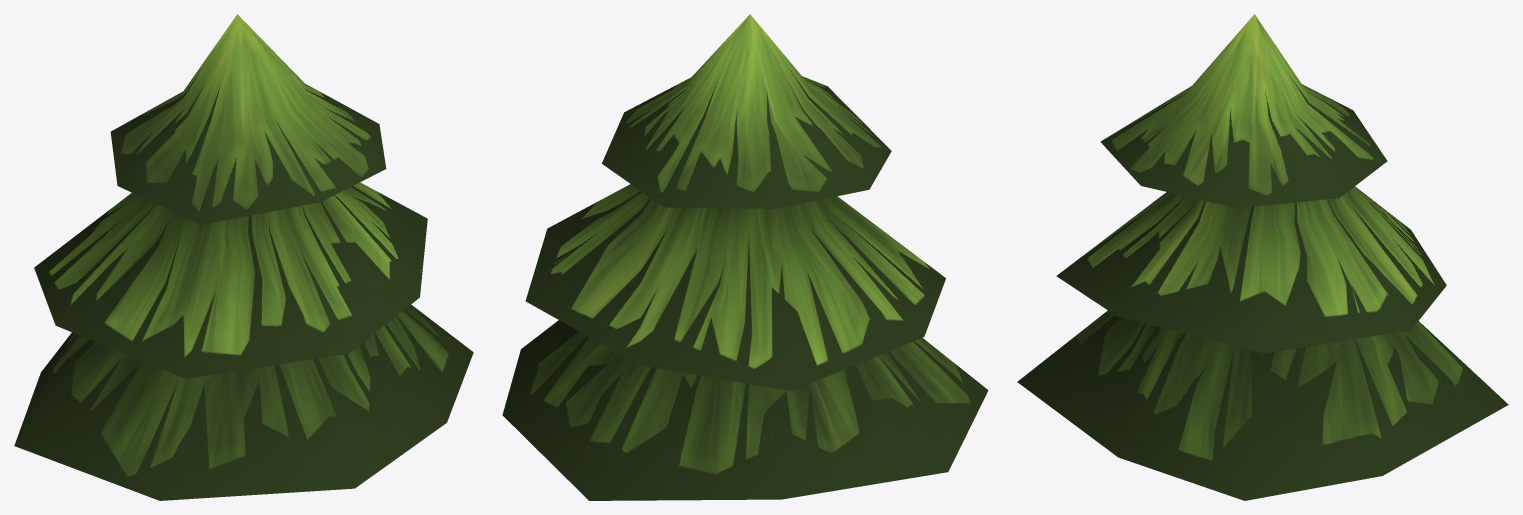
The model's file is pine_tree_04.fbx.
3 views of the same model, side by side, from view 1: azimuth 30°, elevation 25°; view 2: azimuth 150°, elevation 25°; view 3: azimuth 270°, elevation 25° (orthographic). The views are drawn at different scales.
Visible parts, largest first — view 1: pine_tree_04:Mesh; view 2: pine_tree_04:Mesh; view 3: pine_tree_04:Mesh.
Boxes of the visible parts, bbox=[...] form: pine_tree_04:Mesh: bbox=[14, 14, 473, 500]; pine_tree_04:Mesh: bbox=[502, 14, 988, 500]; pine_tree_04:Mesh: bbox=[1017, 14, 1508, 500].
Bounding box in the file's own units: 4.02 × 3.42 × 4.02.
